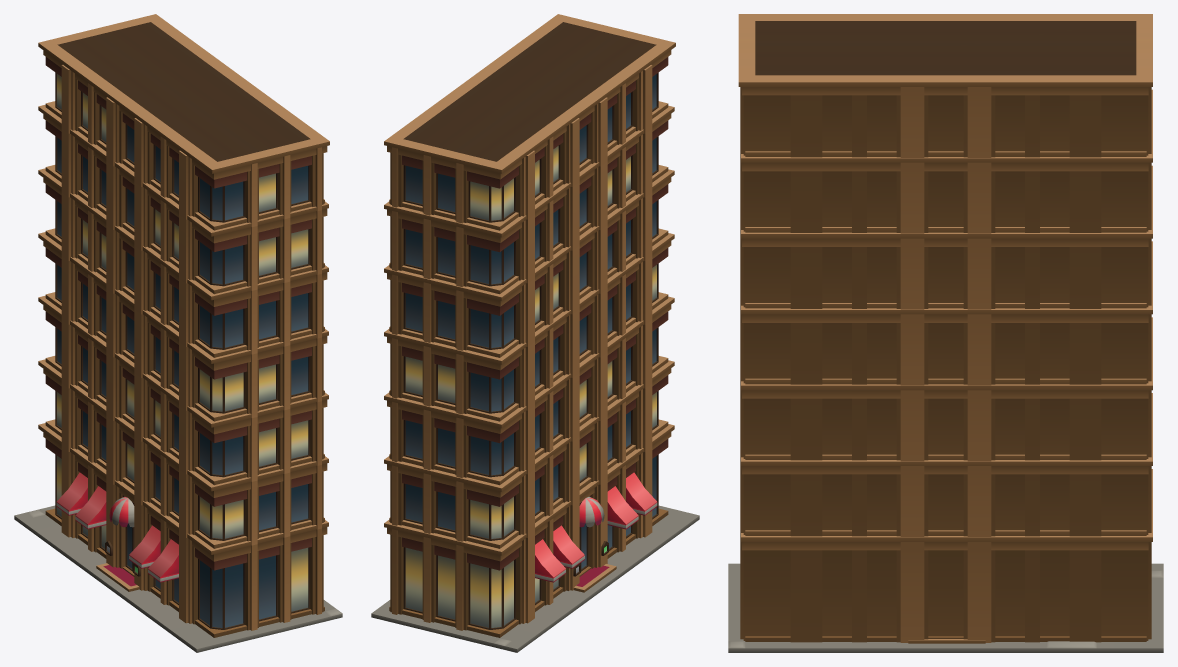
The model's file is Building_15C.fbx.
3 renders of one model, left to right at view 1: azimuth 30°, elevation 25°; view 2: azimuth 150°, elevation 25°; view 3: azimuth 270°, elevation 25°, orthographic. The views are drawn at different scales.
Visible parts, largest first — view 1: Building_15C, Window_Lights_15C, Canopy_15C; view 2: Building_15C, Window_Lights_15C, Canopy_15C; view 3: Building_15C.
Boxes of the visible parts, <box> form: Building_15C: <box>14,14,342,652</box>; Window_Lights_15C: <box>57,74,308,611</box>; Canopy_15C: <box>56,472,178,582</box>; Building_15C: <box>371,14,699,652</box>; Window_Lights_15C: <box>405,146,656,627</box>; Canopy_15C: <box>535,472,657,582</box>; Building_15C: <box>728,14,1163,652</box>.
Size of the model in its own units: 12 by 37.31 by 26.
